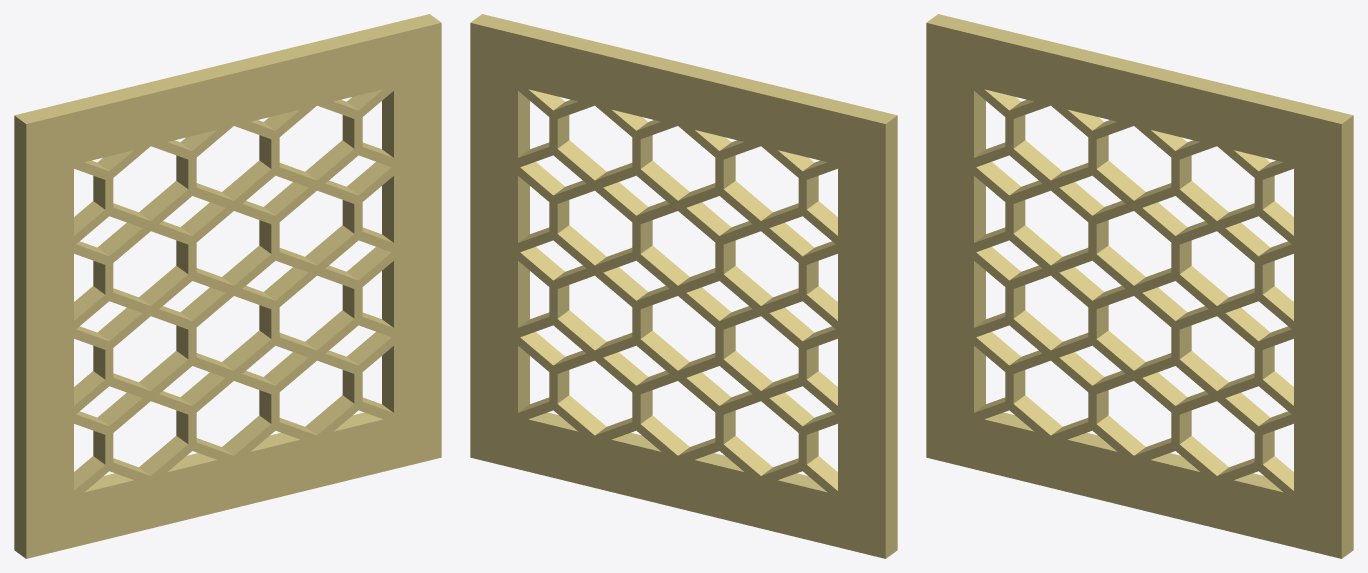
File: auxetic_panel_demo.glb
3 renders of one model, left to right at view 1: azimuth 30°, elevation 25°; view 2: azimuth 150°, elevation 25°; view 3: azimuth 330°, elevation 25°, orthographic.
Parts seen in each view (by area): view 1: auxetic_panel; view 2: auxetic_panel; view 3: auxetic_panel.
Part boxes in pixels (x1,y1,x2,y2): auxetic_panel: (14, 14, 441, 558); auxetic_panel: (470, 14, 897, 558); auxetic_panel: (926, 14, 1353, 558).
Bounding box in the file's own units: 60 × 60 × 3.
